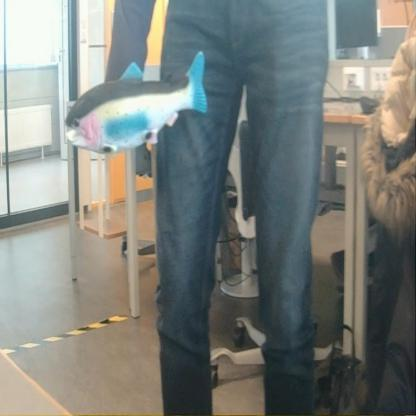rubberfish: (62, 45, 210, 161)
